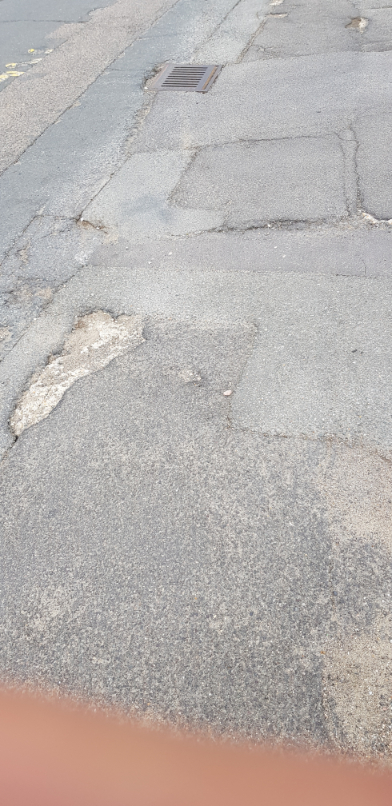pothole: (0, 302, 155, 448)
